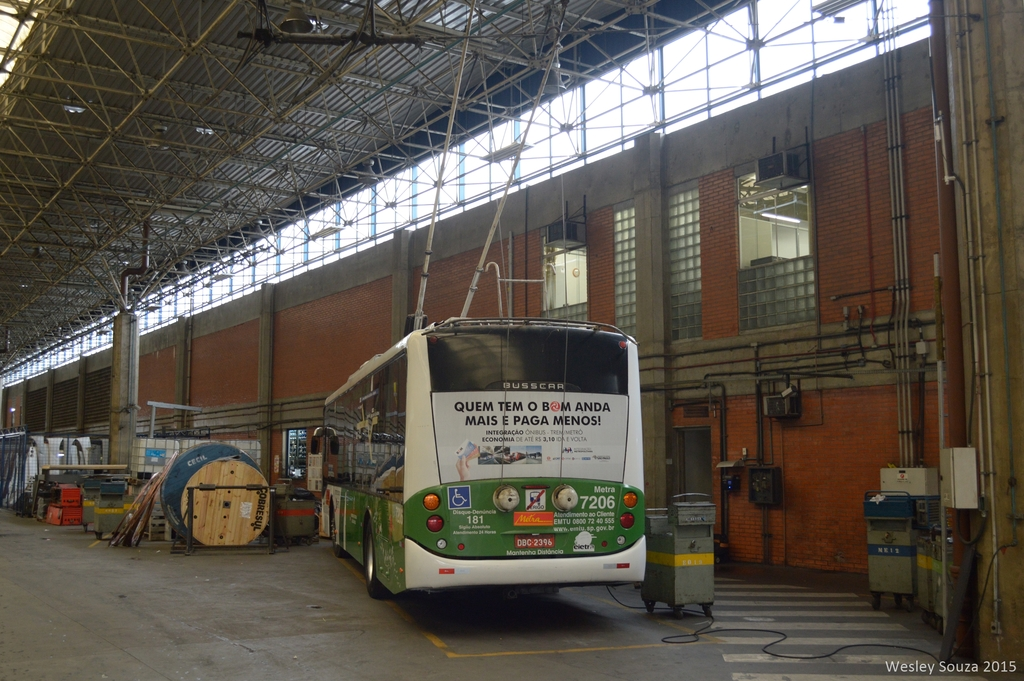Bus: (305, 311, 641, 601)
